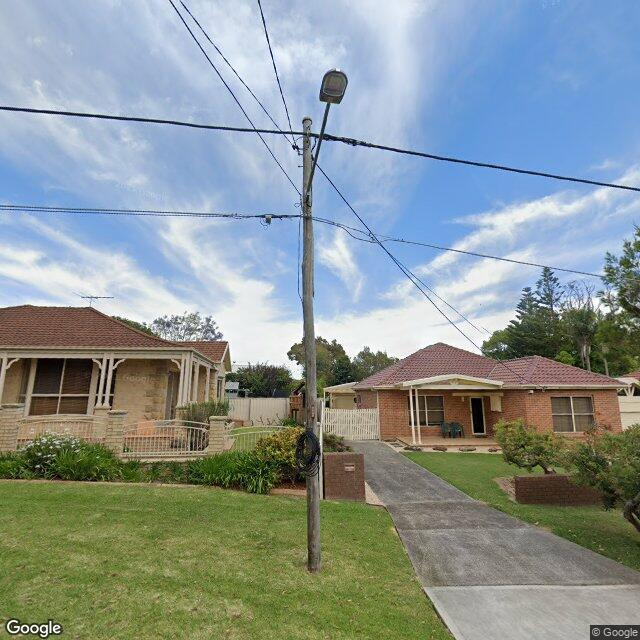streetlight: (304, 69, 349, 204)
timber-pole: (302, 116, 321, 572)
